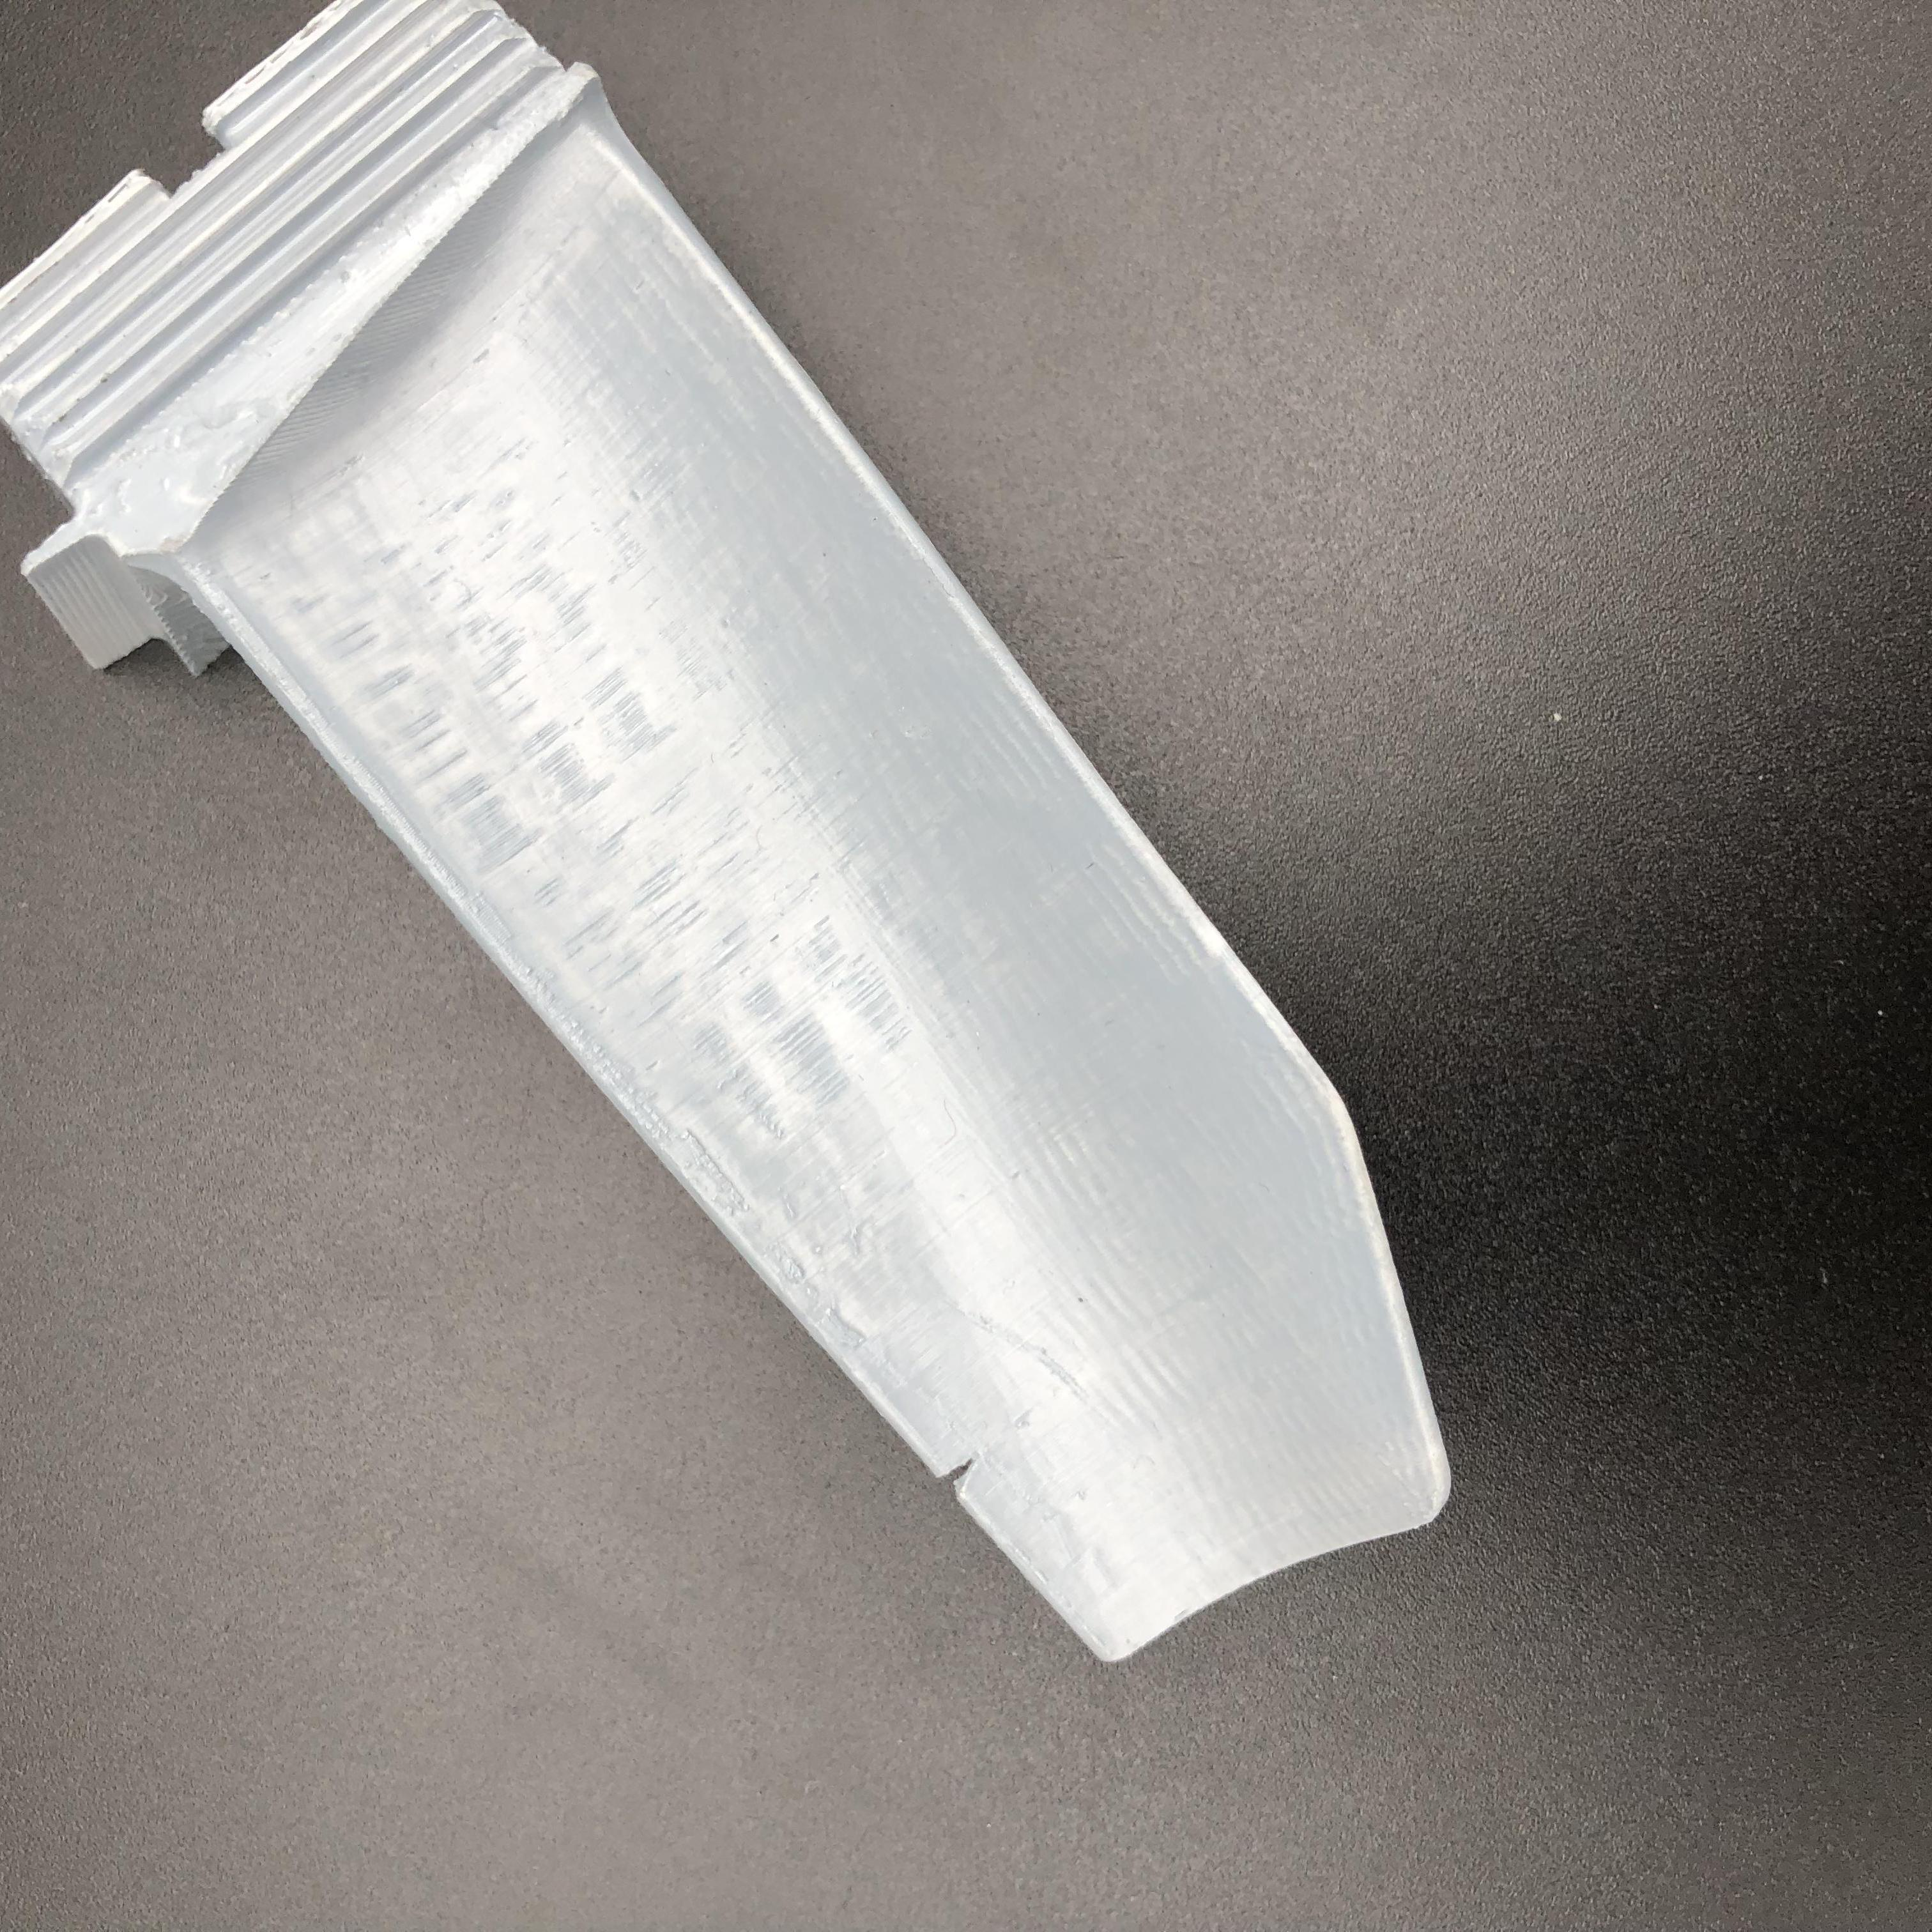groove: (932, 1453, 987, 1513)
